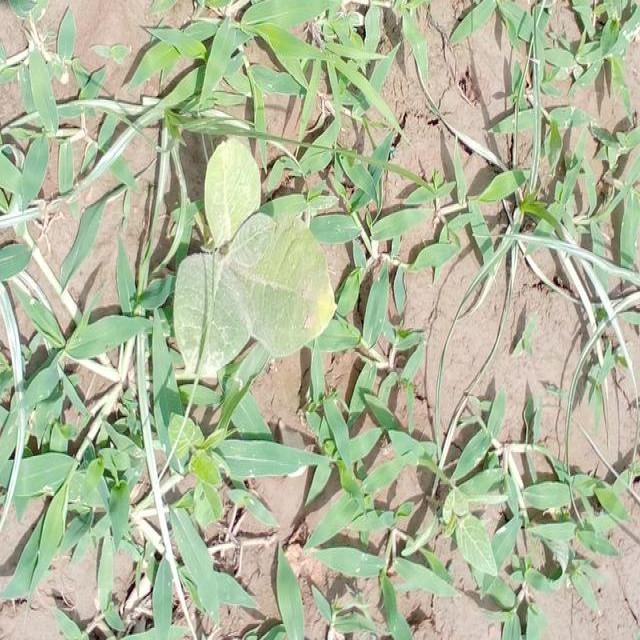crop: (170, 136, 340, 374)
